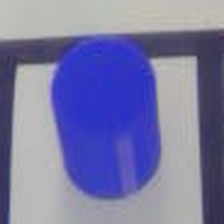cylinder: (34, 26, 178, 206)
